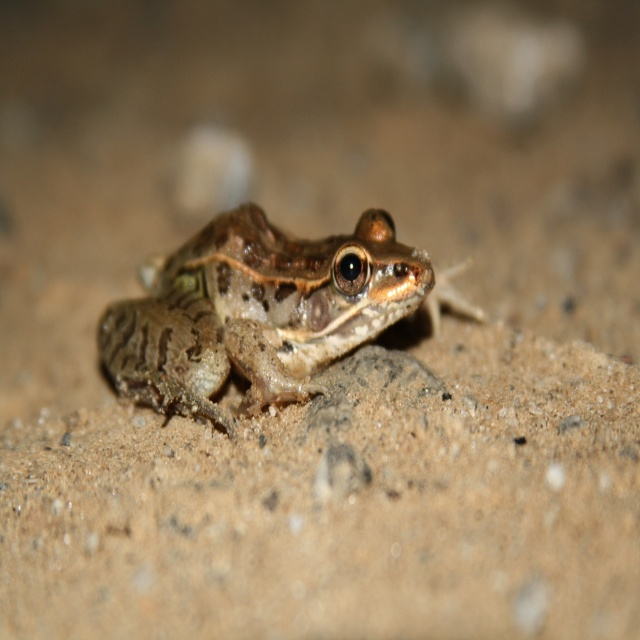Frog: (94, 199, 490, 441)
